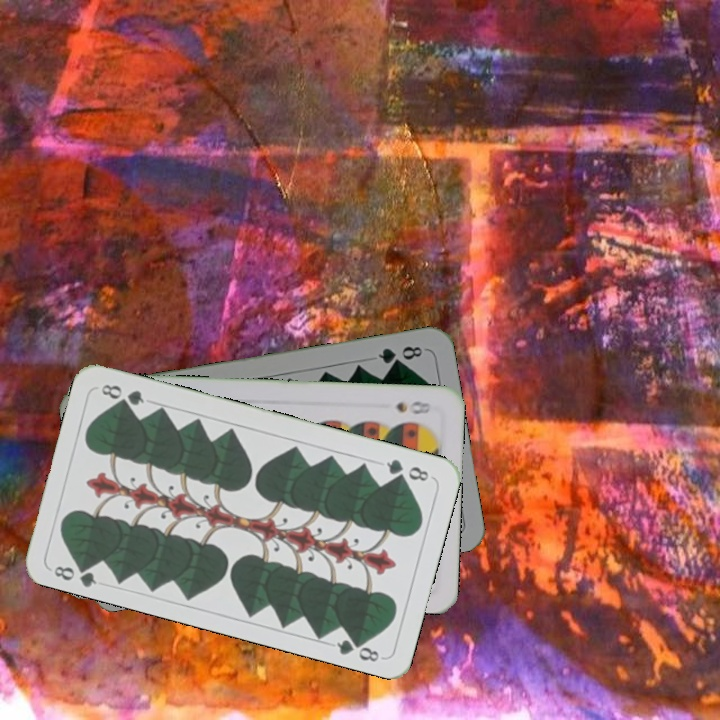G8: (50, 557, 99, 589), (382, 455, 432, 484), (374, 342, 425, 367)
S8: (391, 396, 434, 417)
